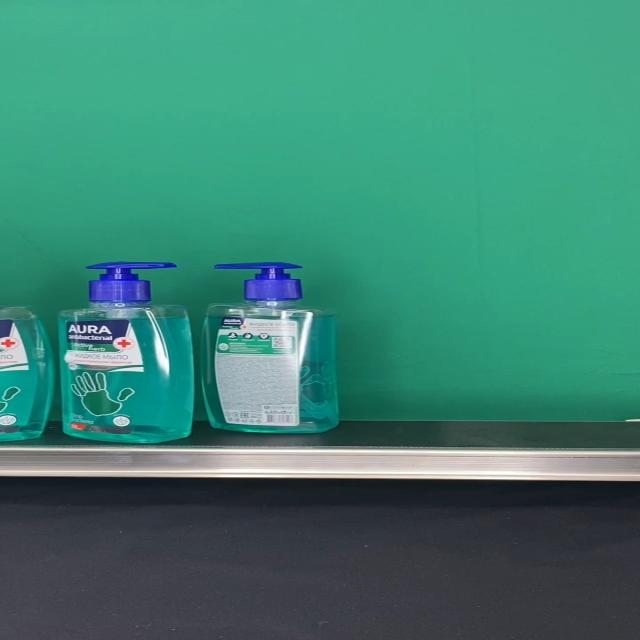Bottle: (59, 261, 194, 444), (198, 262, 338, 434)
Cap: (85, 261, 177, 302), (212, 262, 305, 302)
